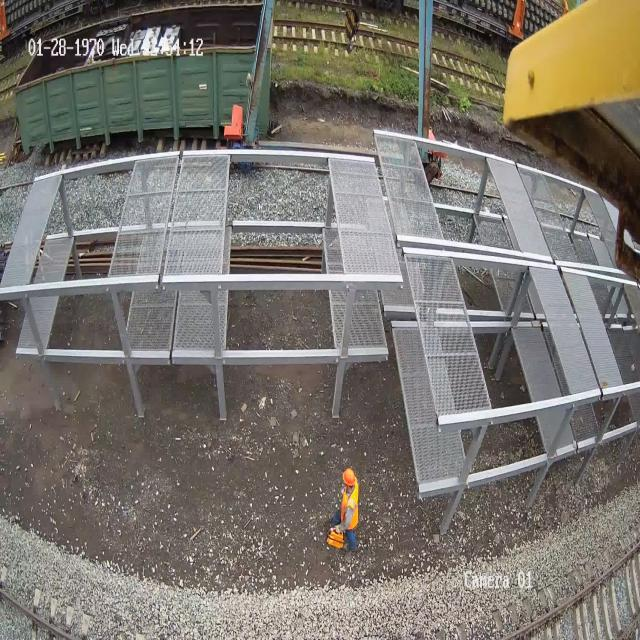Helmet: (342, 467, 355, 486)
Person: (330, 467, 359, 552)
